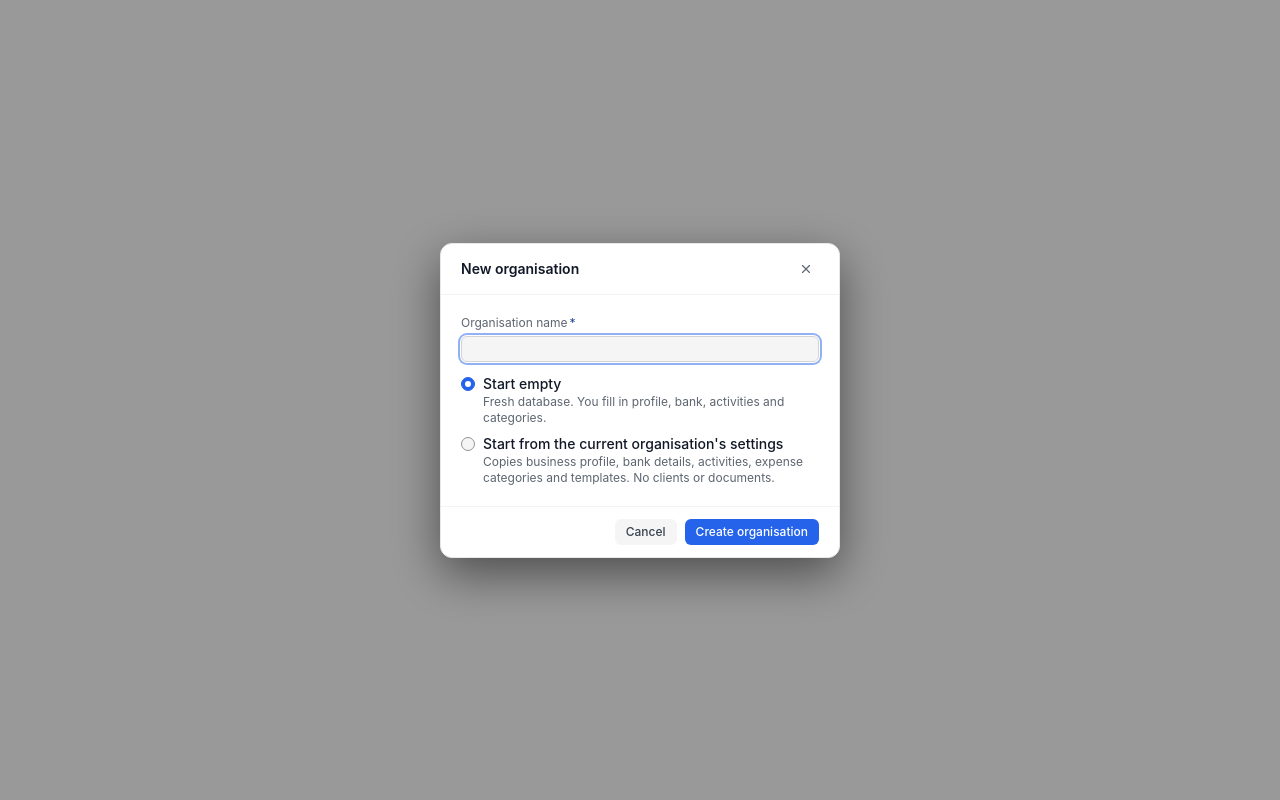
Test case: OrgCreateDialog › requires a name
Click the button "Create organisation" at (752, 532), box [685,518,819,544]
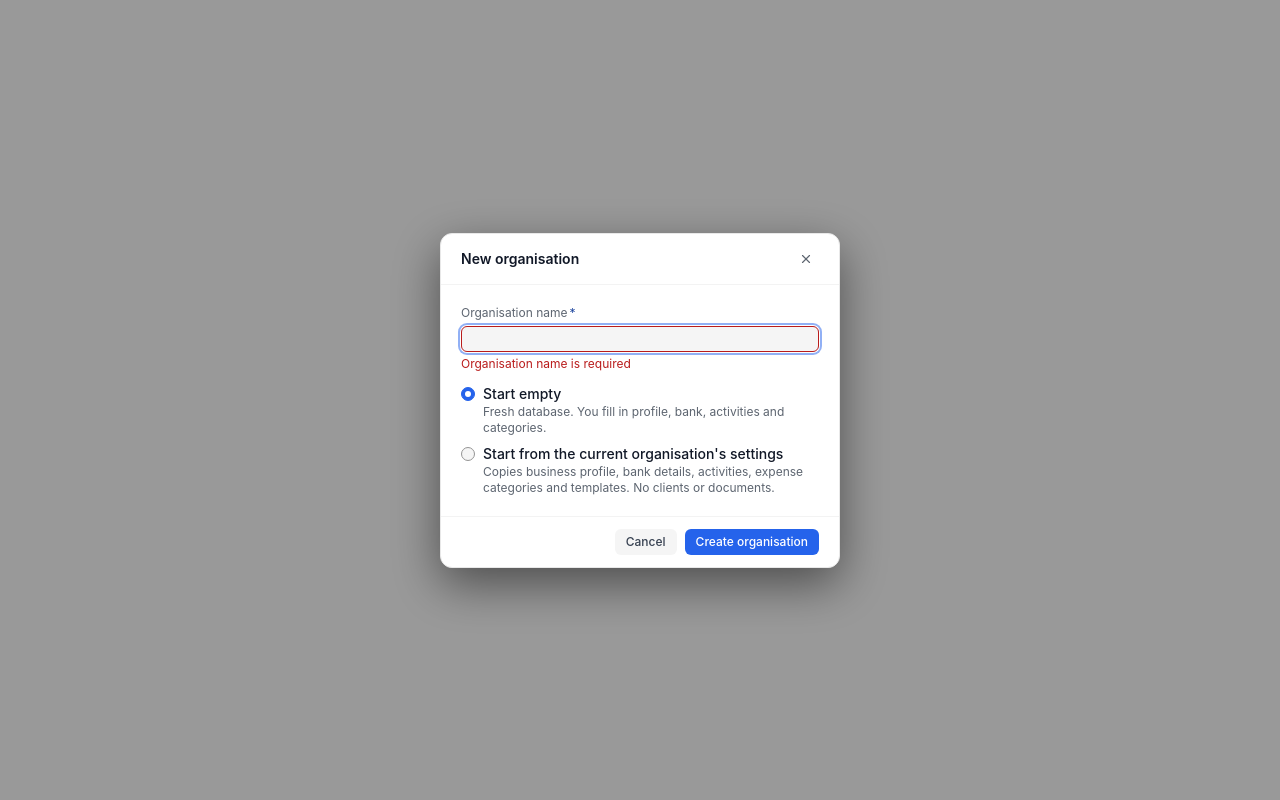
Expected: the message shows "required", [461,356,631,370]
